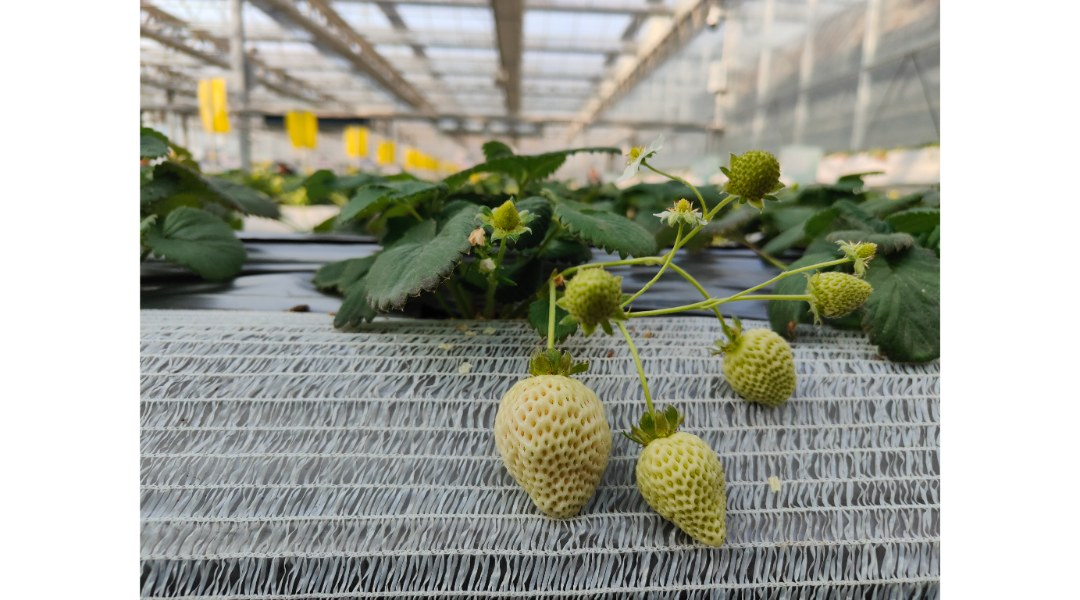berry: (487, 363, 615, 532), (632, 411, 731, 555), (713, 323, 803, 409), (562, 258, 627, 342), (719, 144, 785, 215), (798, 272, 884, 322), (647, 195, 703, 230)
flower: (618, 136, 657, 182)
strain: (664, 276, 790, 317), (622, 322, 652, 415), (645, 161, 709, 202), (636, 270, 662, 304)
